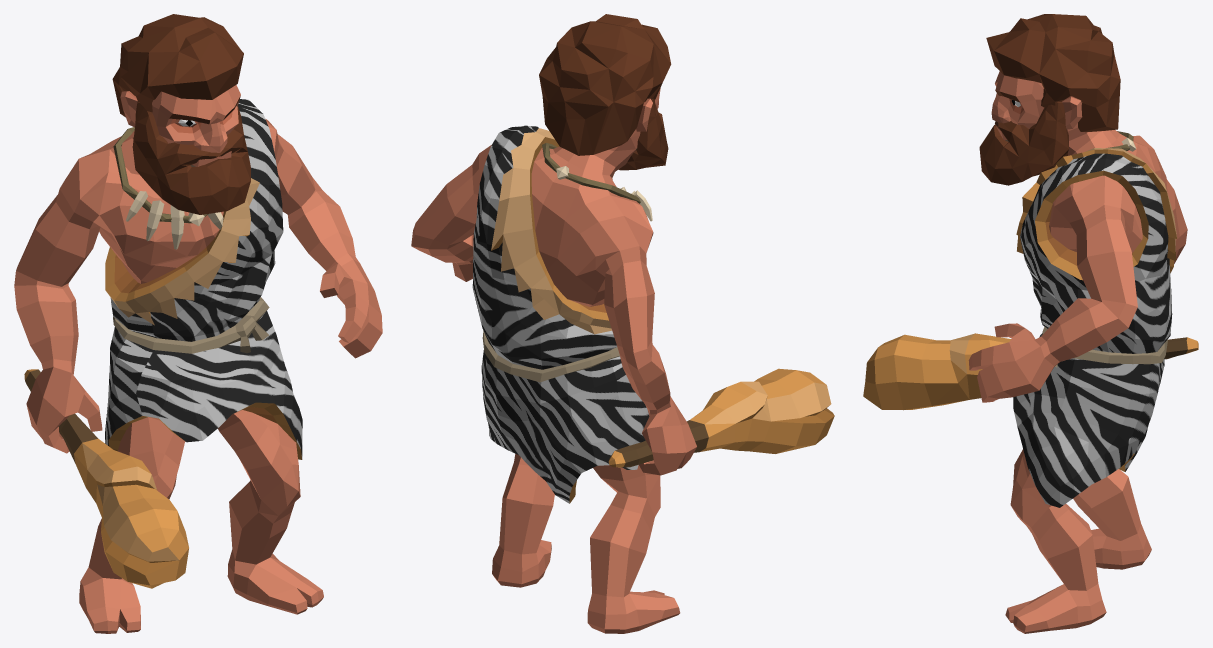
Rendered from Caveman_sketchfab.fbx.
The picture shows the model from 3 angles, left to right: view 1: azimuth 30°, elevation 25°; view 2: azimuth 150°, elevation 25°; view 3: azimuth 270°, elevation 25°; orthographic projection. The views are drawn at different scales.
Parts seen in each view (by area): view 1: _Caveman_03; view 2: _Caveman_03; view 3: _Caveman_03.
Boxes of the visible parts, x1,y1,x2,y2 form: _Caveman_03: (14, 14, 382, 633); _Caveman_03: (411, 14, 834, 633); _Caveman_03: (863, 14, 1198, 633).
Bounding box in the file's own units: 97.7 × 168 × 91.21.
